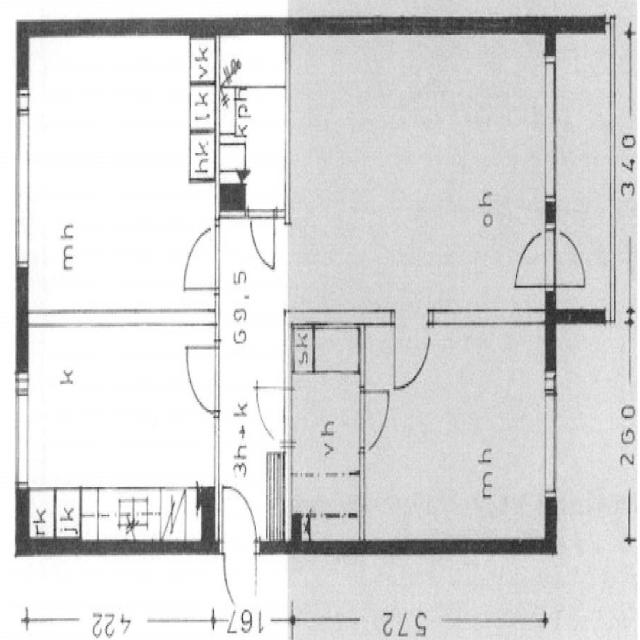door: (395, 310, 430, 389), (222, 479, 256, 554), (222, 541, 256, 616), (514, 229, 555, 287), (546, 229, 586, 287), (181, 349, 219, 410), (180, 226, 218, 286), (359, 392, 396, 450), (248, 209, 274, 264)
